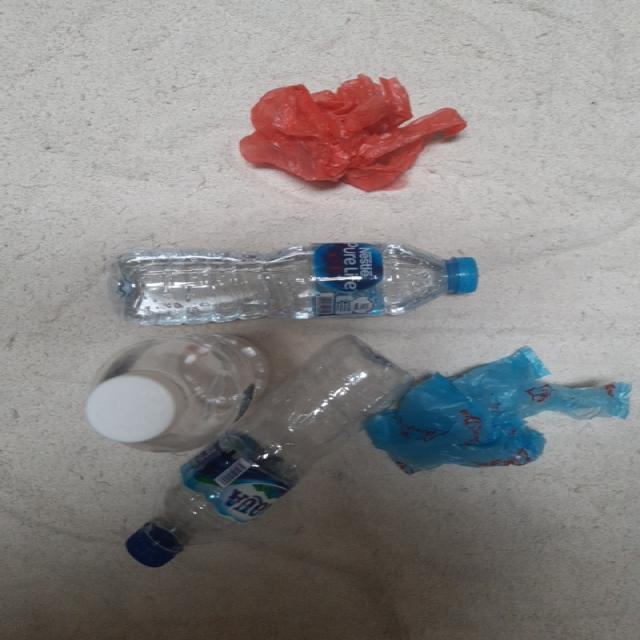Single-layer Plastic: (366, 348, 632, 473), (240, 75, 466, 191)
